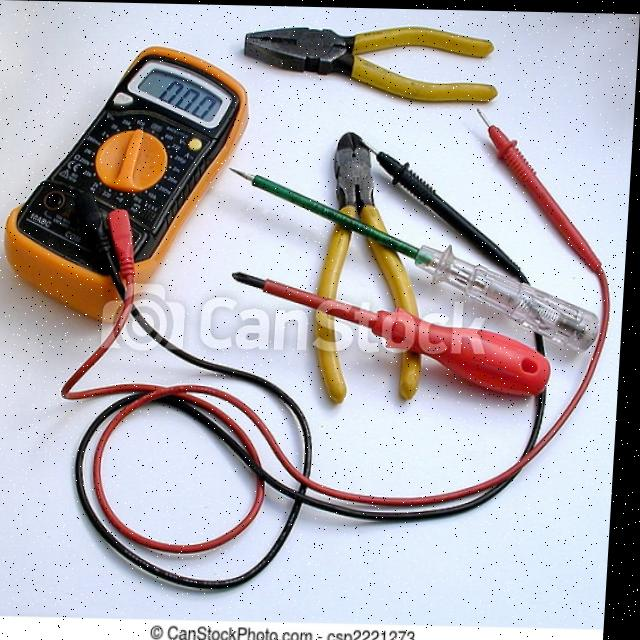Screwdriver: (234, 168, 603, 348), (236, 272, 554, 393)
